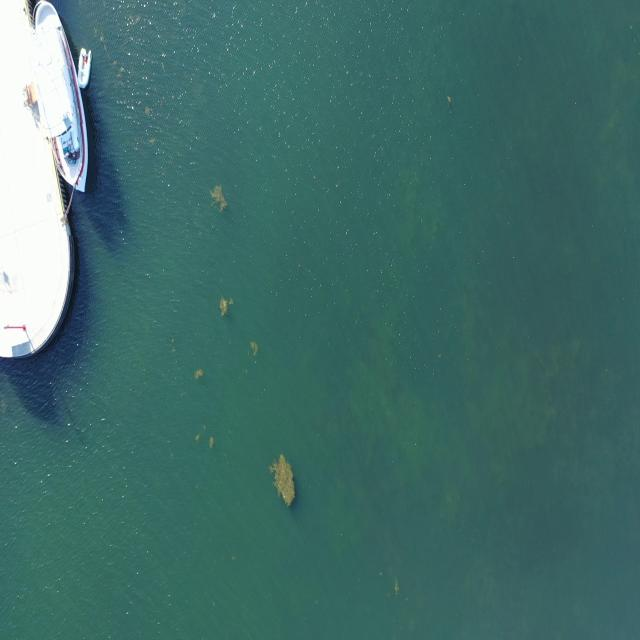boat: (29, 0, 88, 194), (77, 48, 94, 91)
